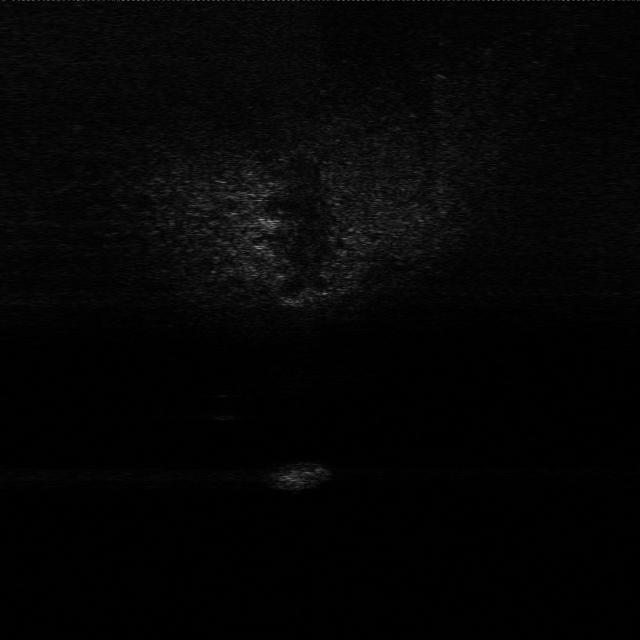ball: (202, 390, 243, 423)
circle cage: (263, 458, 339, 492)
